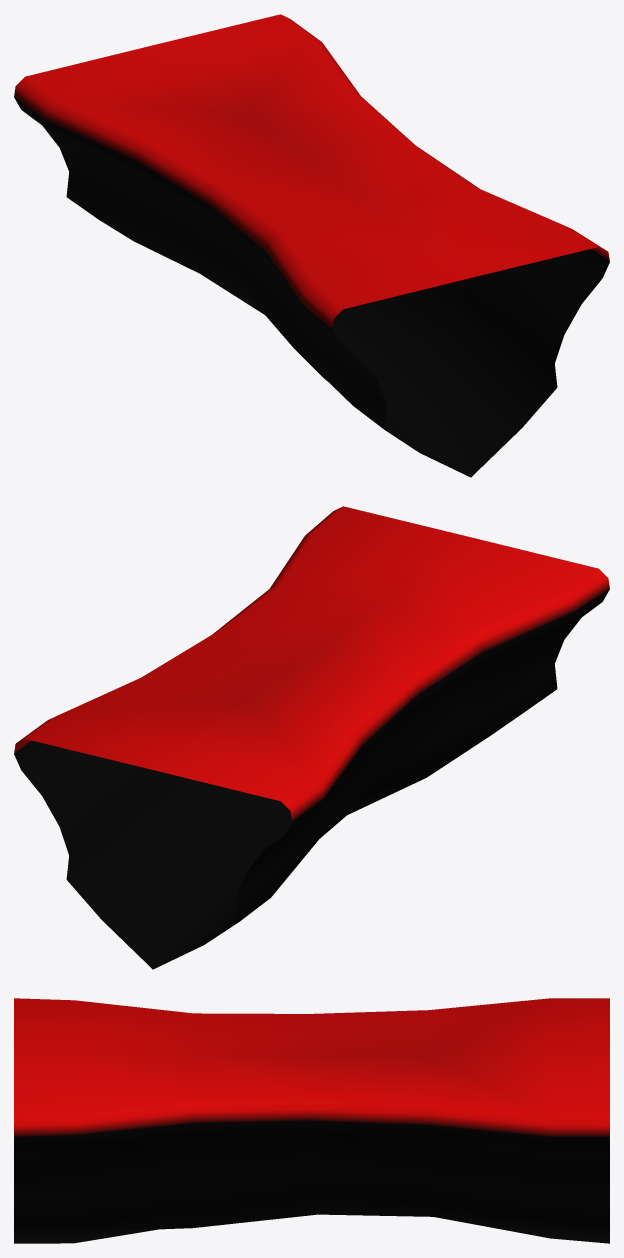
File: CrossingCliff01A 3M Background.fbx
3 renders of one model, top to bottom at view 1: azimuth 30°, elevation 25°; view 2: azimuth 150°, elevation 25°; view 3: azimuth 270°, elevation 25°, orthographic. The views are drawn at different scales.
Visible parts, largest first — view 1: CrossingCliff01A 3M Background; view 2: CrossingCliff01A 3M Background; view 3: CrossingCliff01A 3M Background.
Boxes of the visible parts, x1,y1,x2,y2 form: CrossingCliff01A 3M Background: [14, 14, 609, 477]; CrossingCliff01A 3M Background: [14, 506, 609, 969]; CrossingCliff01A 3M Background: [14, 998, 609, 1243].
Bounding box in the file's own units: 1.01 × 0.693 × 2.
